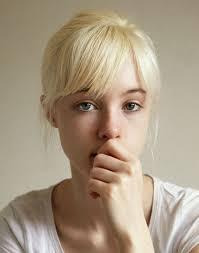No Mask: (45, 26, 162, 206)
